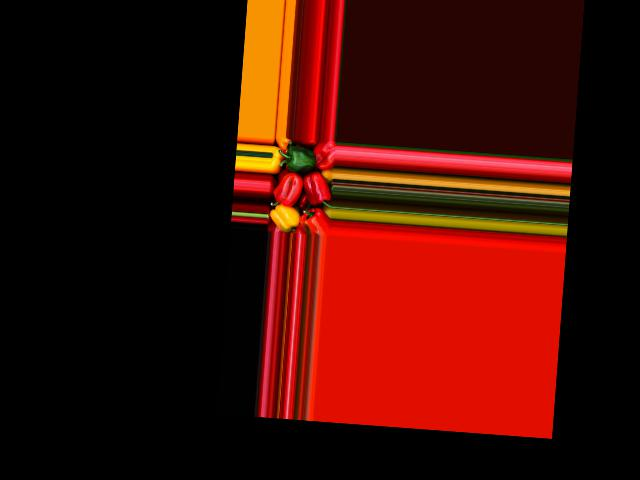bell_pepper: (267, 201, 303, 233)
